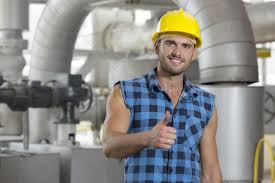Person_wearing_helmet: (151, 3, 205, 49)
